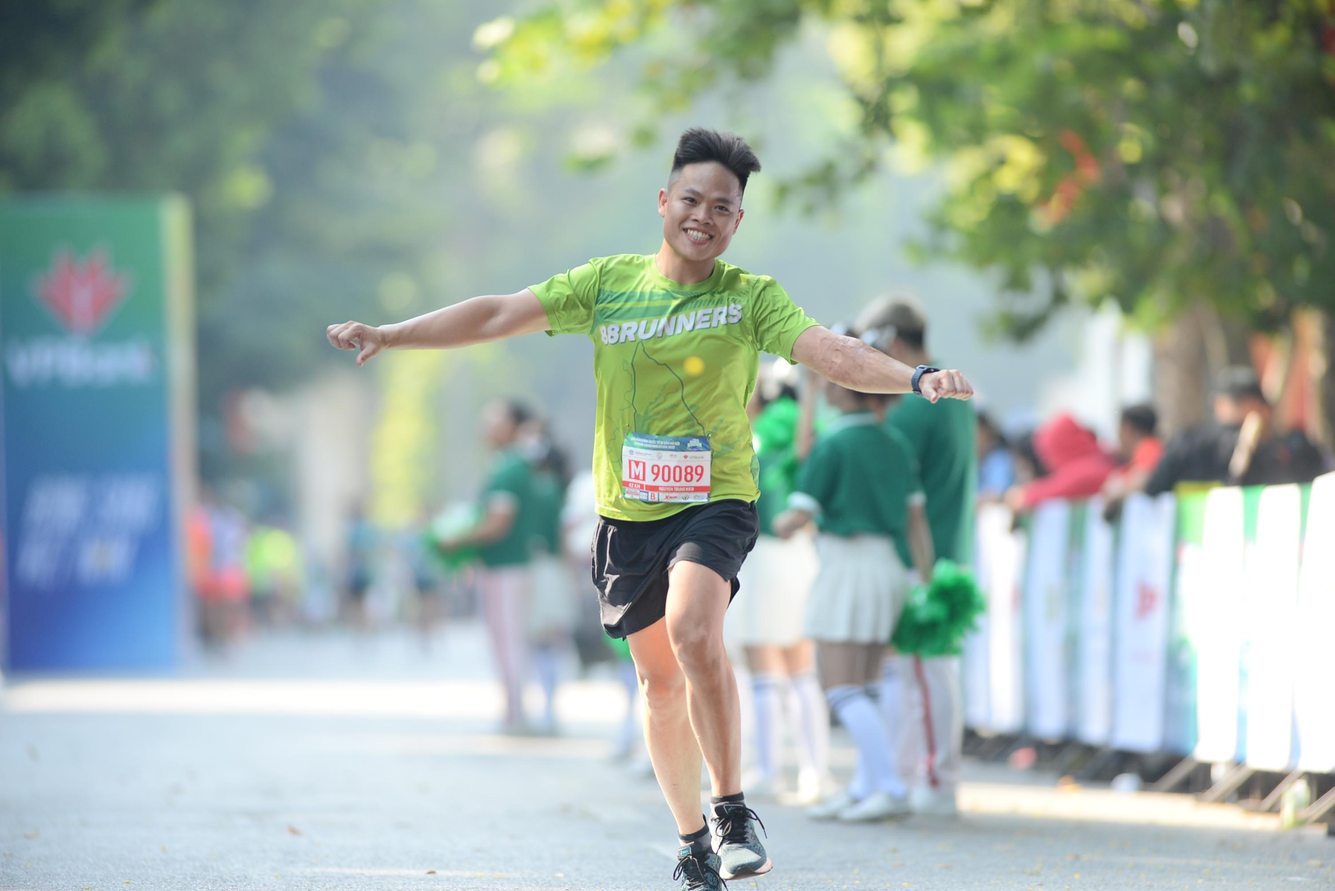bib: (620, 433, 711, 504)
